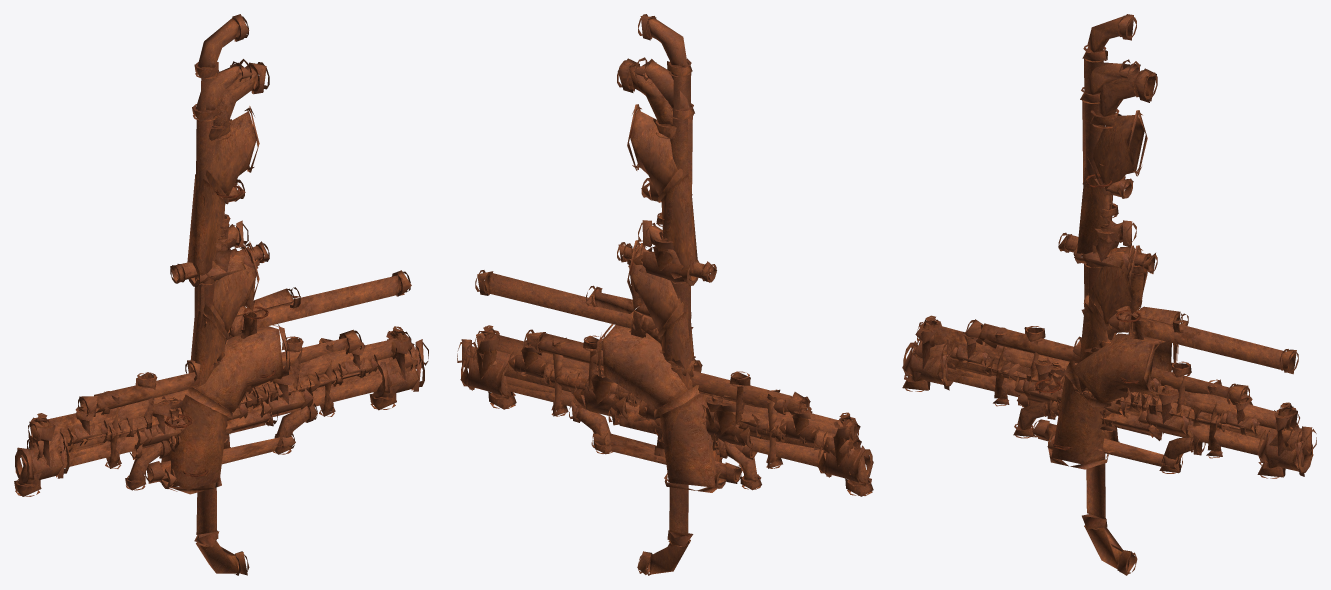
File: alley_metal_pipes.glb
3 renders of one model, left to right at view 1: azimuth 30°, elevation 25°; view 2: azimuth 150°, elevation 25°; view 3: azimuth 330°, elevation 25°, orthographic.
Visible parts, largest first — view 1: PIPE_VAR_04, PIPE_VAR_07, Solo_Thick_Pipe, PIPE_VAR_05, PIPE_VAR_02, PIPE_VAR_08, PIPE_VAR_06, PIPE_VAR_01, Pipe_Bracket, PIPE_VAR_03, Pipe_Junction_3Way; view 2: PIPE_VAR_04, Solo_Thick_Pipe, PIPE_VAR_07, PIPE_VAR_05, PIPE_VAR_06, PIPE_VAR_02, PIPE_VAR_08, PIPE_VAR_01, Pipe_Bracket, PIPE_VAR_03, Pipe_Junction_3Way; view 3: PIPE_VAR_04, PIPE_VAR_07, Solo_Thick_Pipe, PIPE_VAR_05, PIPE_VAR_02, PIPE_VAR_08, PIPE_VAR_06, Pipe_Bracket, PIPE_VAR_01, PIPE_VAR_03, Pipe_Junction_3Way, Pipe_Junction_4Way.
Boxes of the visible parts, x1=… form: PIPE_VAR_04: x1=187, y1=59, x2=269, y2=400; PIPE_VAR_07: x1=15, y1=326, x2=424, y2=483; Solo_Thick_Pipe: x1=159, y1=323, x2=290, y2=494; PIPE_VAR_05: x1=78, y1=329, x2=362, y2=490; PIPE_VAR_02: x1=170, y1=14, x2=269, y2=362; PIPE_VAR_08: x1=29, y1=270, x2=411, y2=456; PIPE_VAR_06: x1=14, y1=339, x2=428, y2=496; PIPE_VAR_01: x1=46, y1=338, x2=396, y2=465; Pipe_Bracket: x1=194, y1=220, x2=249, y2=575; PIPE_VAR_03: x1=101, y1=259, x2=300, y2=459; Pipe_Junction_3Way: x1=169, y1=410, x2=278, y2=451; PIPE_VAR_04: x1=617, y1=57, x2=699, y2=407; Solo_Thick_Pipe: x1=596, y1=322, x2=725, y2=492; PIPE_VAR_07: x1=460, y1=325, x2=873, y2=483; PIPE_VAR_05: x1=524, y1=329, x2=810, y2=490; PIPE_VAR_06: x1=457, y1=339, x2=873, y2=496; PIPE_VAR_02: x1=617, y1=14, x2=716, y2=359; PIPE_VAR_08: x1=475, y1=270, x2=859, y2=456; PIPE_VAR_01: x1=483, y1=337, x2=845, y2=464; Pipe_Bracket: x1=637, y1=220, x2=693, y2=575; PIPE_VAR_03: x1=585, y1=258, x2=786, y2=459; Pipe_Junction_3Way: x1=608, y1=407, x2=718, y2=450; PIPE_VAR_04: x1=1073, y1=59, x2=1157, y2=395; PIPE_VAR_07: x1=902, y1=315, x2=1313, y2=476; Solo_Thick_Pipe: x1=1048, y1=333, x2=1178, y2=469; PIPE_VAR_05: x1=965, y1=319, x2=1249, y2=473; PIPE_VAR_02: x1=1058, y1=14, x2=1157, y2=347; PIPE_VAR_08: x1=918, y1=312, x2=1298, y2=401; PIPE_VAR_06: x1=902, y1=339, x2=1316, y2=478; Pipe_Bracket: x1=1082, y1=220, x2=1137, y2=575; PIPE_VAR_01: x1=928, y1=329, x2=1285, y2=440; PIPE_VAR_03: x1=984, y1=265, x2=1188, y2=427; Pipe_Junction_3Way: x1=1049, y1=399, x2=1163, y2=440; Pipe_Junction_4Way: x1=1050, y1=340, x2=1159, y2=452.
Size of the model in its own units: 3.62 by 4.73 by 0.5147.
Materials: 3 (3 with a texture image).
